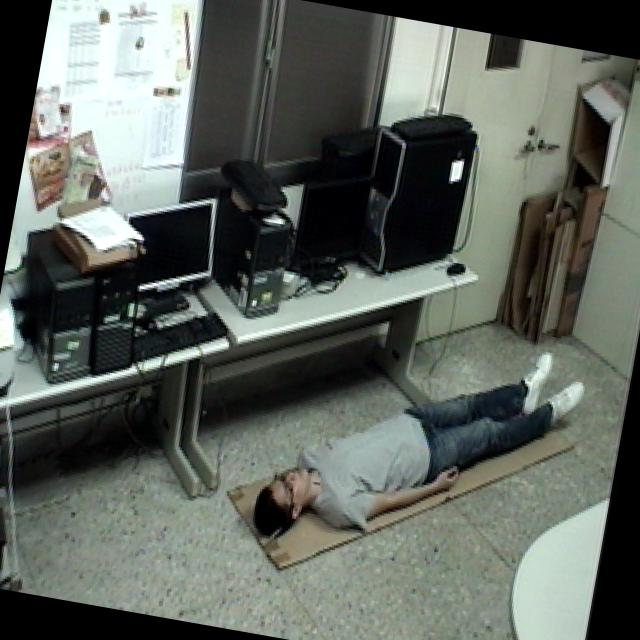lie: (237, 286, 608, 602)
